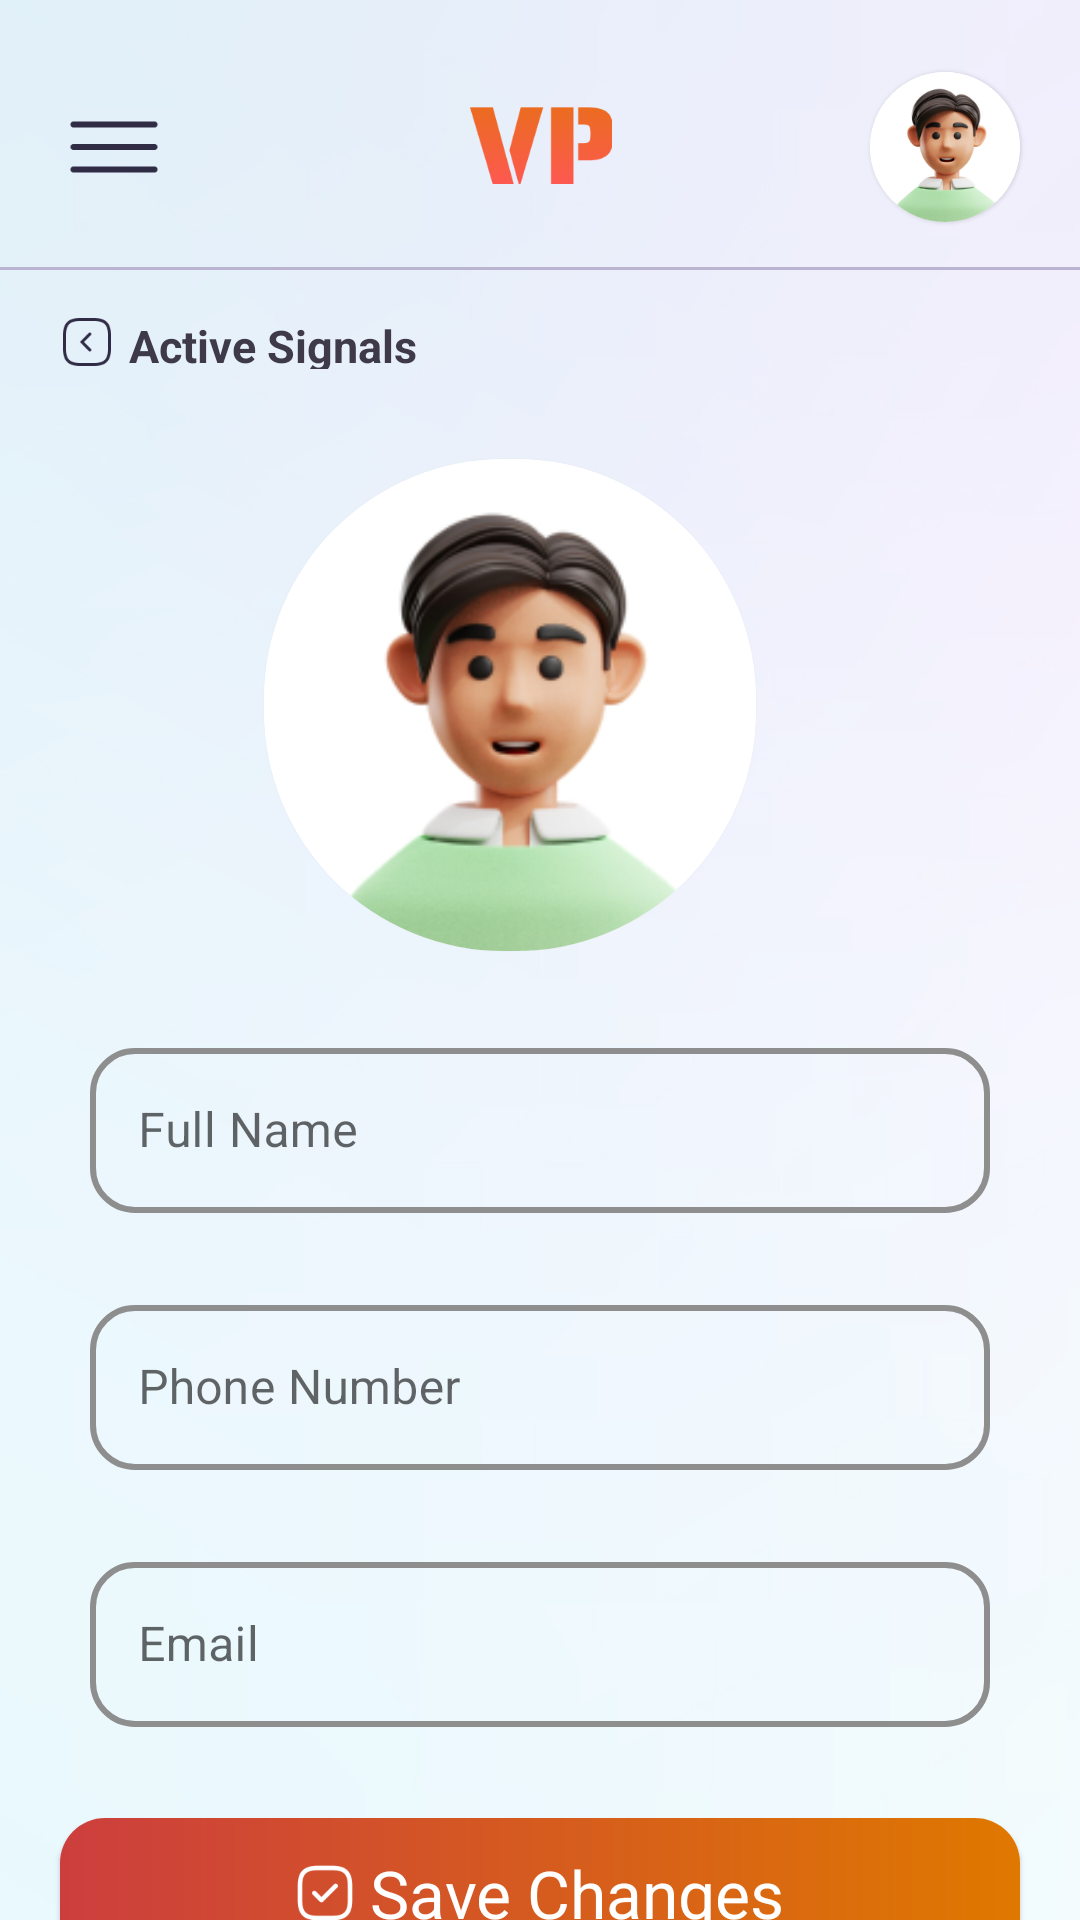

Point at icon controls on the screen. Image size 1080x1920, points as [x,y].
arrowleft: [87,342]
menu: [114,147]
tick: [325,1892]
